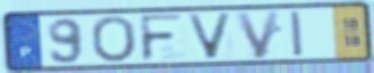9: (46, 17, 85, 65)
F: (137, 12, 187, 63)
I: (288, 9, 306, 58)
O: (89, 14, 138, 64)
V: (233, 8, 284, 61), (184, 12, 236, 61)
